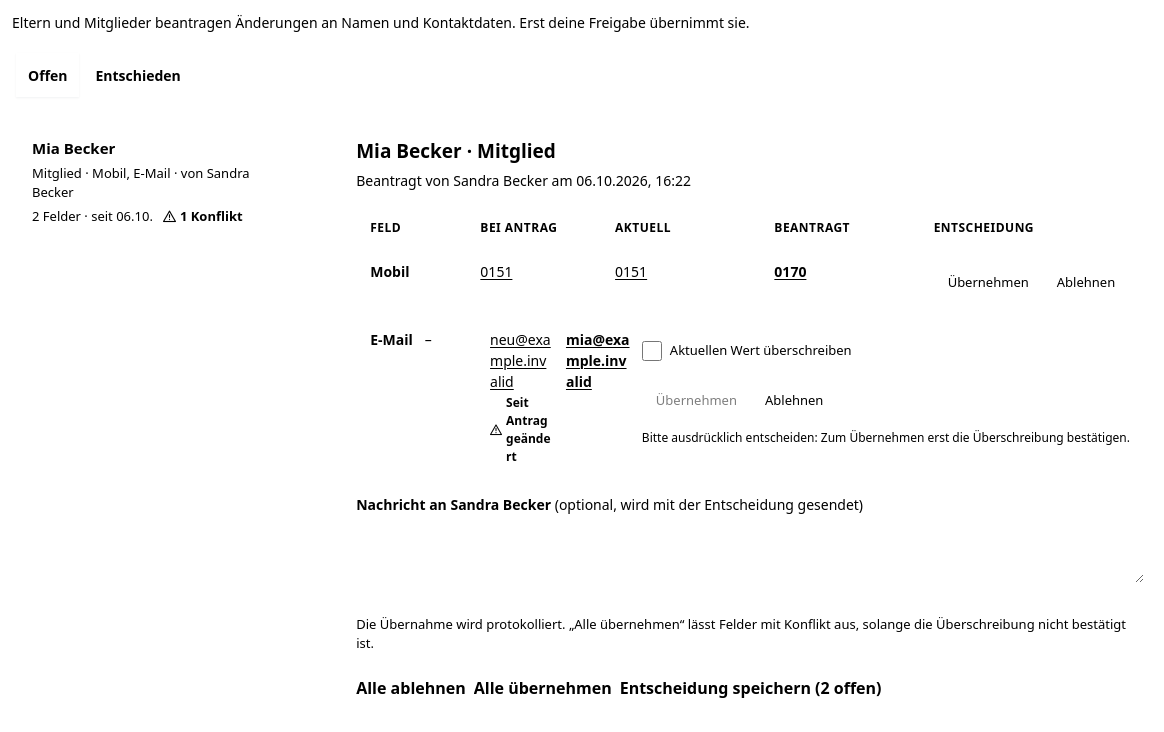
Test: ChangeRequestsTab › shows decided requests read-only
What coordinates should you click on to do the following:
click the button "Entschieden"
I would click on:
 (138, 75)
Its box is [84, 53, 193, 97].
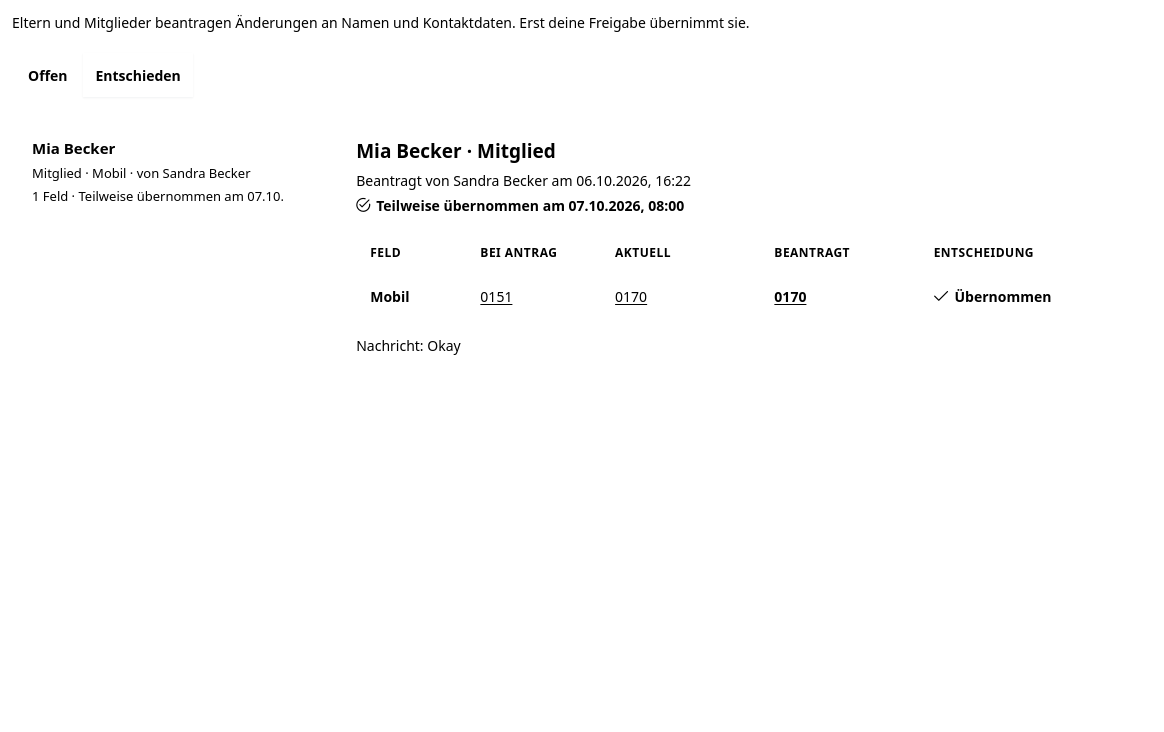
Now the text "übernommen" is shown, box [32, 187, 284, 205]
Now the text "Teilweise übernommen" is shown, box [32, 187, 284, 205]
